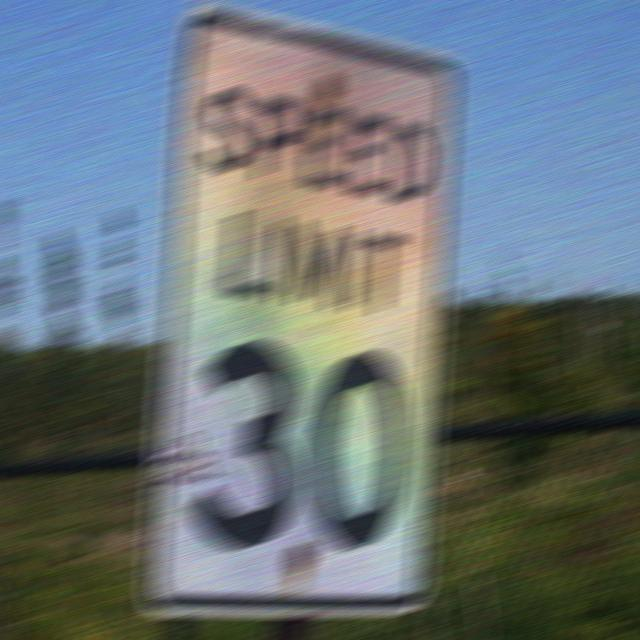speedLimit35: (146, 20, 457, 615)
